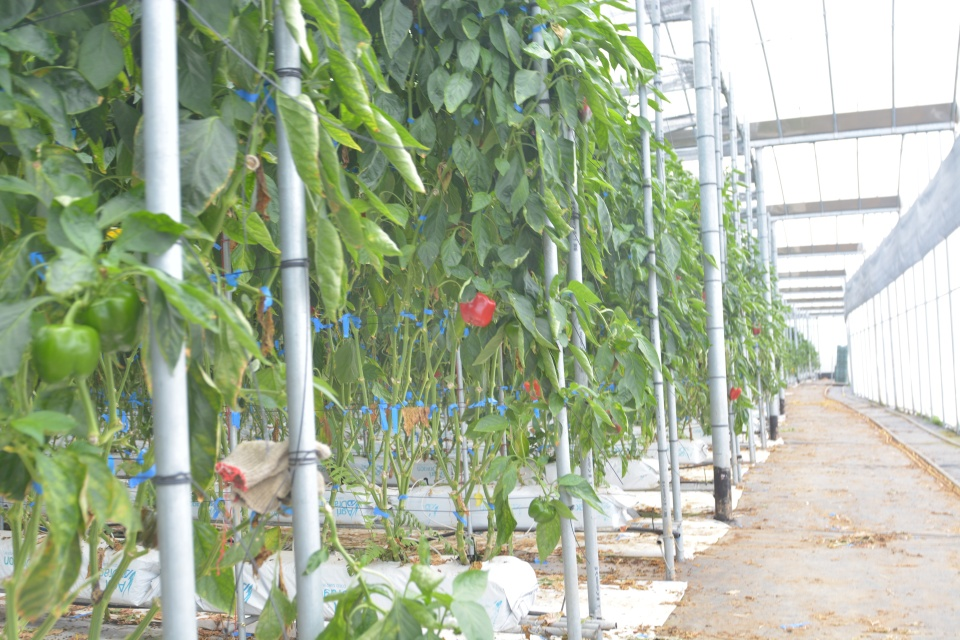fruit: (74, 279, 141, 353), (30, 320, 102, 385), (124, 506, 158, 549), (459, 290, 497, 328), (527, 494, 556, 524), (505, 318, 519, 349), (577, 103, 594, 125), (632, 265, 650, 284)
pedicle: (542, 501, 548, 508)
